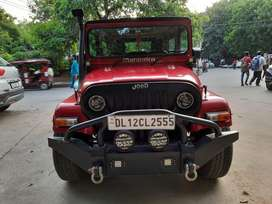DL12CL2555: (107, 115, 175, 130)
